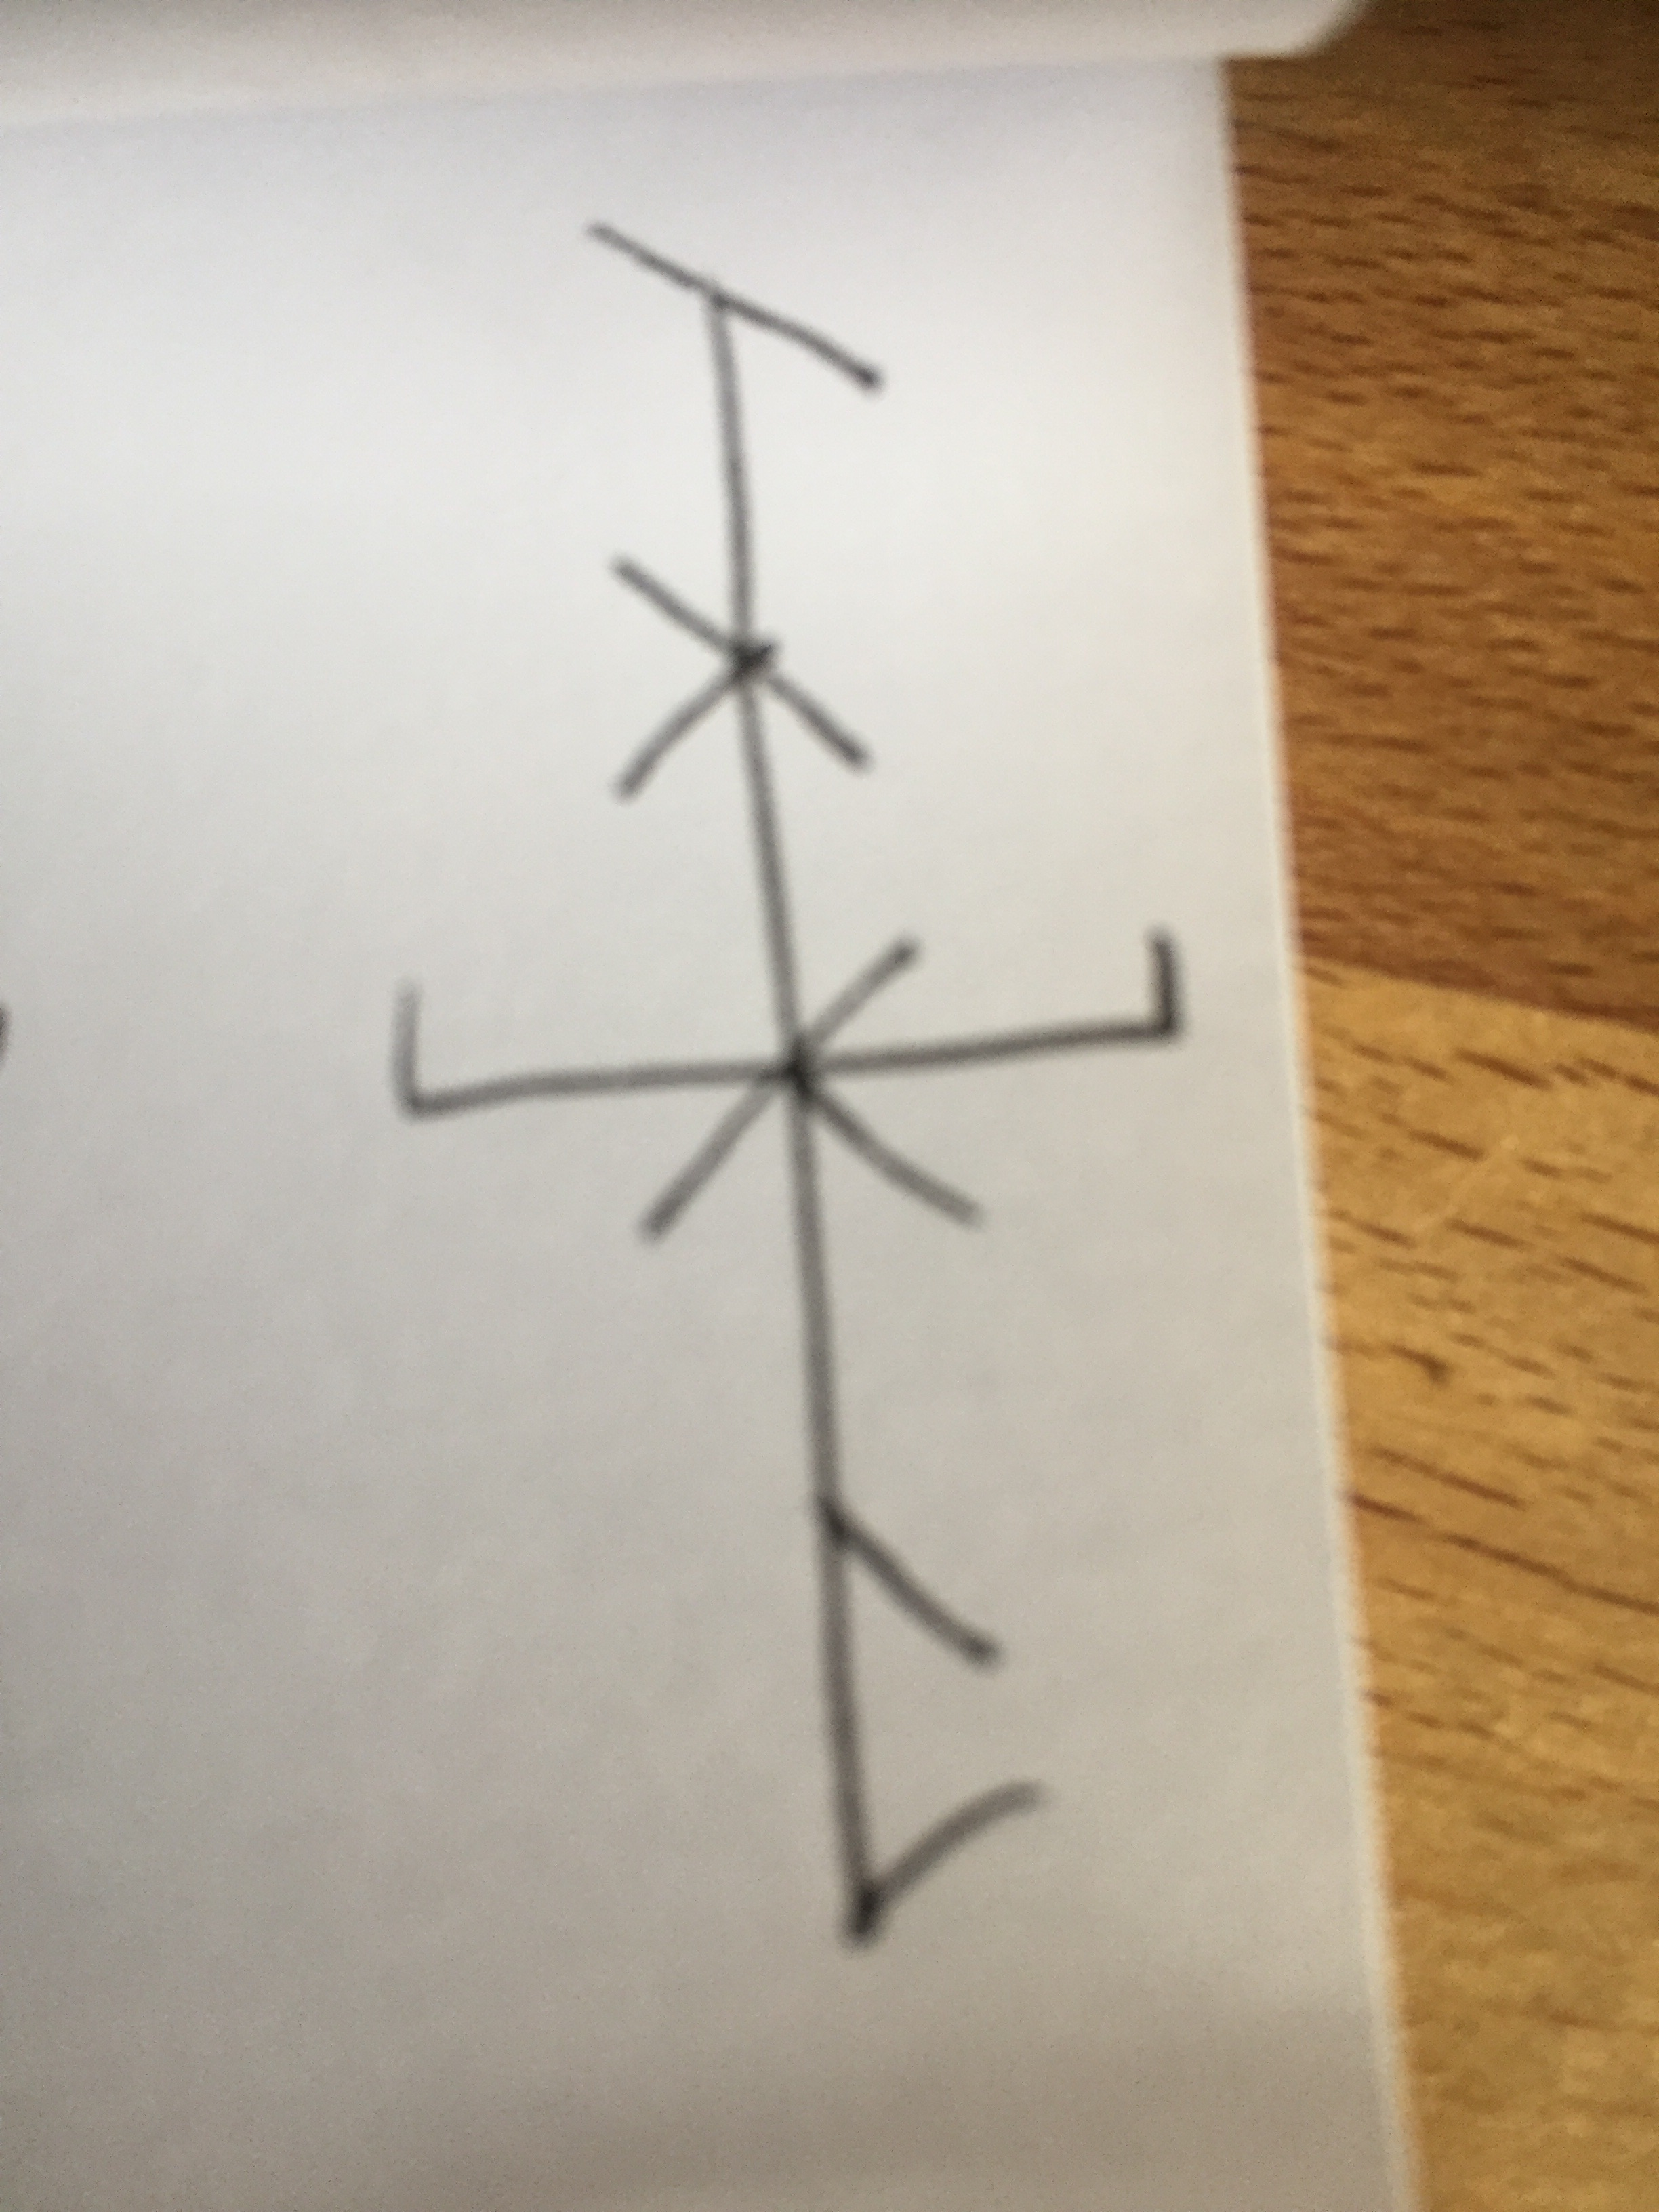Bar: (586, 219, 1046, 1947)
Barcode: (385, 221, 1188, 1949)
End: (924, 925, 1187, 1078)
Start: (385, 975, 720, 1122)
